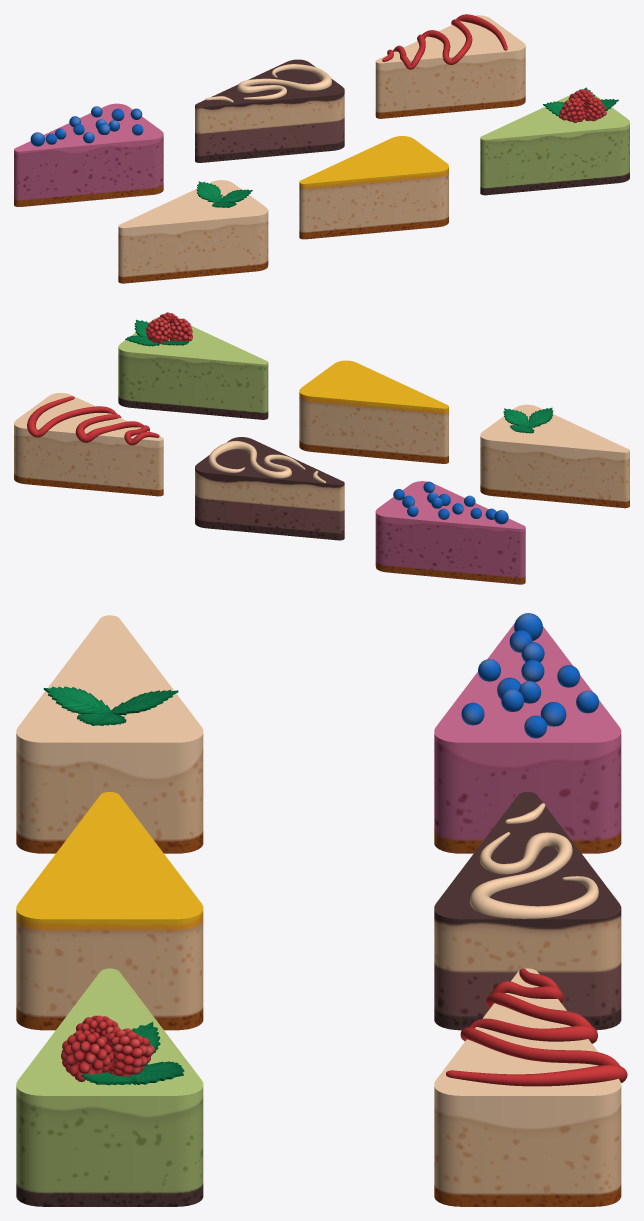
The model's file is pies.fbx.
3 views of the same model, one above another, from view 1: azimuth 30°, elevation 25°; view 2: azimuth 150°, elevation 25°; view 3: azimuth 270°, elevation 25° (orthographic). The views are drawn at different scales.
Visible parts, largest first — view 1: pie.004, pie.001, pie, pie.003, pie.002, pie.005, Vert.001, Vert, berries, leaf, raspberry, raspberry.001; view 2: pie.004, pie.001, pie, pie.002, pie.005, pie.003, Vert.001, berries, Vert, leaf, leaf.001, raspberry.002 (+1 smaller); view 3: pie.004, pie.005, pie.001, pie.003, pie, pie.002, Vert.001, berries, Vert, leaf, raspberry.001, raspberry.002 (+1 smaller).
Boxes of the visible parts, x1,y1,x2,y2 form: pie.004: (299, 136, 448, 239); pie.001: (118, 180, 268, 283); pie: (14, 103, 163, 206); pie.003: (375, 15, 525, 118); pie.002: (195, 59, 344, 162); pie.005: (480, 94, 629, 195); Vert.001: (382, 14, 507, 69); Vert: (205, 64, 331, 102); berries: (30, 106, 143, 146); leaf: (196, 181, 252, 207); raspberry: (558, 97, 585, 122); raspberry.001: (582, 96, 606, 121); pie.004: (299, 360, 448, 463); pie.001: (480, 404, 629, 508); pie: (375, 481, 525, 584); pie.002: (195, 437, 344, 540); pie.005: (118, 317, 268, 419); pie.003: (14, 393, 163, 496); Vert.001: (27, 396, 159, 445); berries: (393, 481, 508, 524); Vert: (208, 441, 325, 483); leaf: (503, 407, 553, 433); leaf.001: (125, 319, 188, 346); raspberry.002: (146, 318, 170, 343); pie.004: (16, 792, 203, 1030); pie.005: (16, 968, 203, 1206); pie.001: (16, 615, 203, 853); pie.003: (434, 968, 621, 1206); pie: (434, 623, 621, 853); pie.002: (434, 792, 621, 1030); Vert.001: (446, 968, 627, 1086); berries: (461, 613, 598, 738); Vert: (470, 803, 598, 918); leaf: (43, 686, 178, 725); raspberry.001: (61, 1030, 113, 1081); raspberry.002: (104, 1028, 154, 1076).
Bounding box in the file's own units: 549 × 80.41 × 293.
